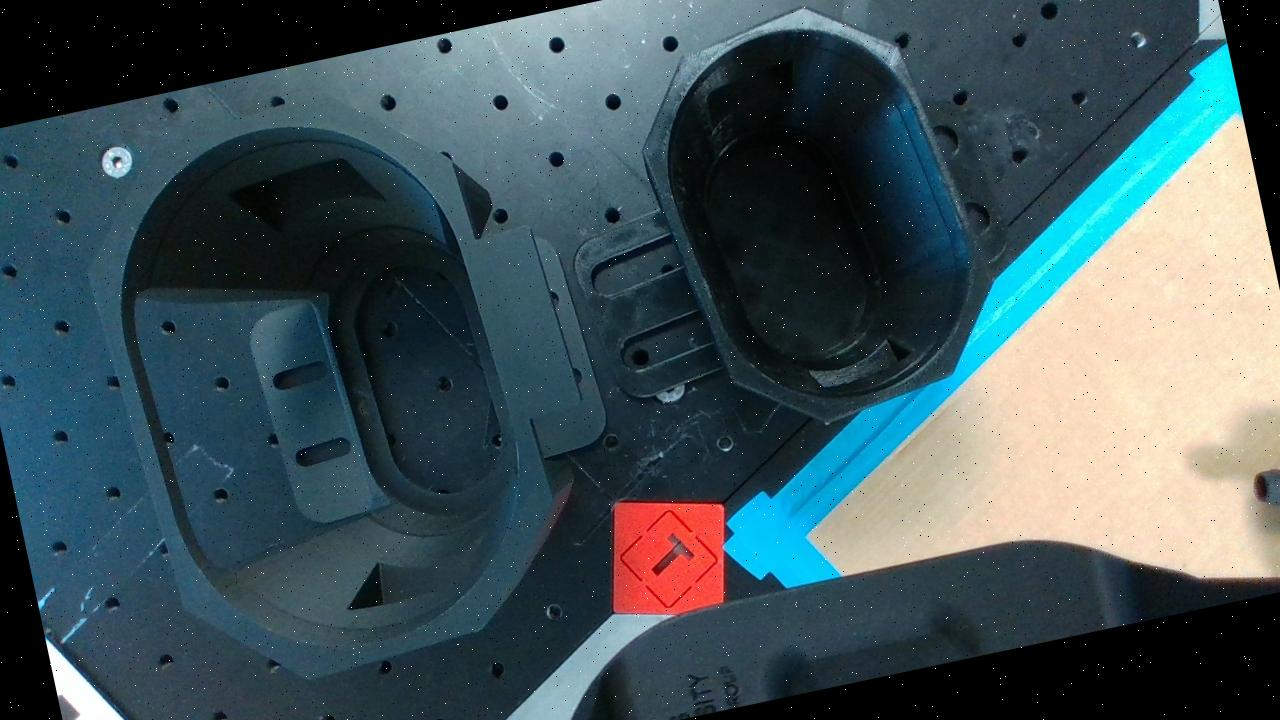big_interface: (59, 68, 580, 708)
small_interface: (619, 0, 1020, 450)
